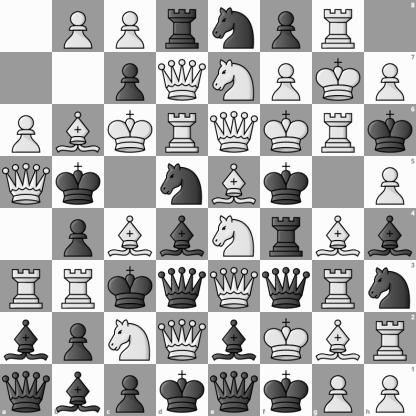B: (53, 105, 104, 156), (105, 209, 156, 260), (209, 157, 260, 208), (313, 209, 364, 260), (313, 313, 364, 364)
K: (105, 105, 156, 156), (261, 105, 312, 156), (261, 313, 312, 364), (313, 53, 364, 104)
N: (105, 313, 156, 364), (209, 53, 260, 104), (209, 209, 260, 260)
P: (364, 156, 416, 209), (312, 364, 364, 416), (364, 52, 416, 104), (364, 364, 416, 416), (1, 105, 52, 156), (53, 1, 104, 52), (105, 1, 156, 52), (261, 53, 312, 104)
Q: (1, 157, 52, 208), (157, 53, 208, 104), (157, 313, 208, 364), (209, 105, 260, 156), (209, 261, 260, 312)
R: (364, 312, 416, 364), (1, 261, 52, 312), (53, 261, 104, 312), (157, 105, 208, 156), (313, 1, 364, 52), (313, 105, 364, 156), (313, 261, 364, 312)
b: (52, 364, 104, 416), (364, 209, 416, 260), (1, 313, 52, 364), (157, 209, 208, 260), (209, 313, 260, 364)
board: (0, 0, 415, 415)
k: (156, 364, 209, 416), (260, 364, 312, 416), (364, 104, 416, 156), (53, 157, 104, 208), (105, 261, 156, 312), (261, 157, 312, 208)
n: (364, 260, 416, 312), (157, 157, 208, 208), (209, 1, 260, 52)
p: (104, 364, 156, 416), (53, 209, 104, 260), (53, 313, 104, 364), (105, 53, 156, 104), (261, 1, 312, 52)
q: (0, 364, 52, 416), (209, 364, 260, 416), (157, 261, 208, 312), (261, 261, 312, 312)
r: (157, 1, 208, 52), (261, 209, 312, 260)
